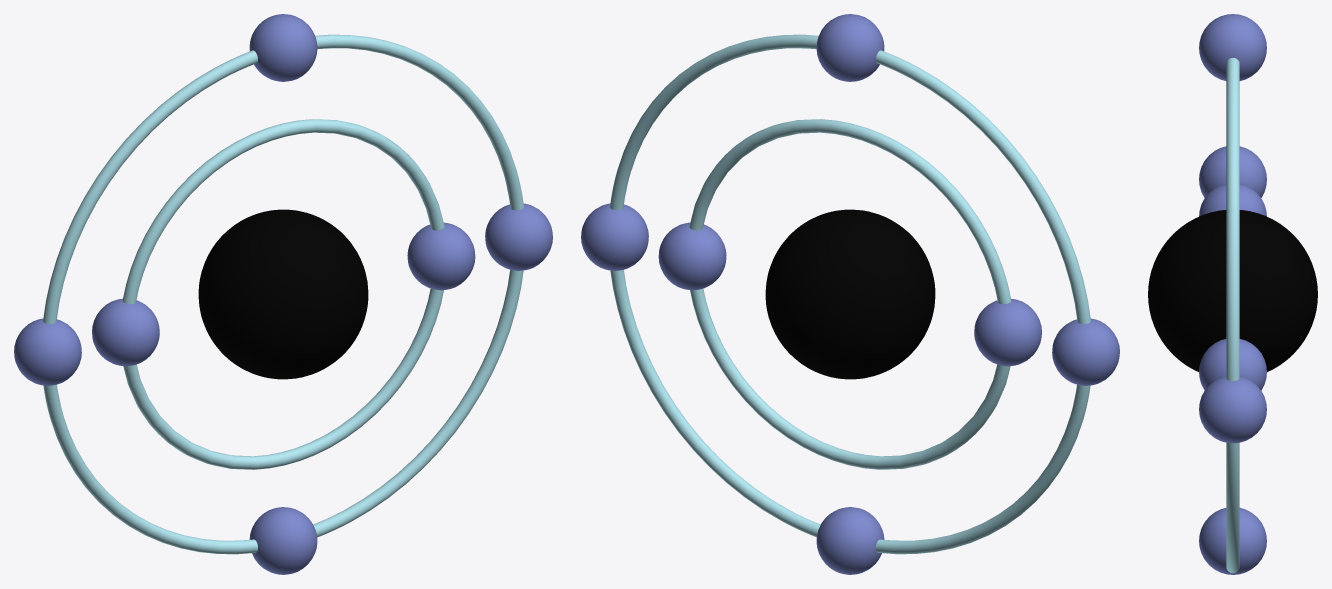
Rendered from asset.glb.
3 views of the same model, side by side, from view 1: azimuth 30°, elevation 25°; view 2: azimuth 150°, elevation 25°; view 3: azimuth 270°, elevation 25° (orthographic).
Visible parts, largest first — view 1: Body1, Body2, Body4; view 2: Body1, Body2, Body4; view 3: Body2, Body1, Body4.
Part boxes in pixels (bbox=[...]): Body1: bbox=[14, 14, 552, 574]; Body2: bbox=[198, 209, 368, 379]; Body4: bbox=[92, 119, 475, 469]; Body1: bbox=[581, 14, 1119, 574]; Body2: bbox=[765, 209, 935, 379]; Body4: bbox=[658, 119, 1041, 469]; Body2: bbox=[1148, 210, 1317, 371]; Body1: bbox=[1199, 14, 1266, 574]; Body4: bbox=[1199, 184, 1266, 390].
Bounding box in the file's own units: 0.09 × 0.09 × 0.025.
